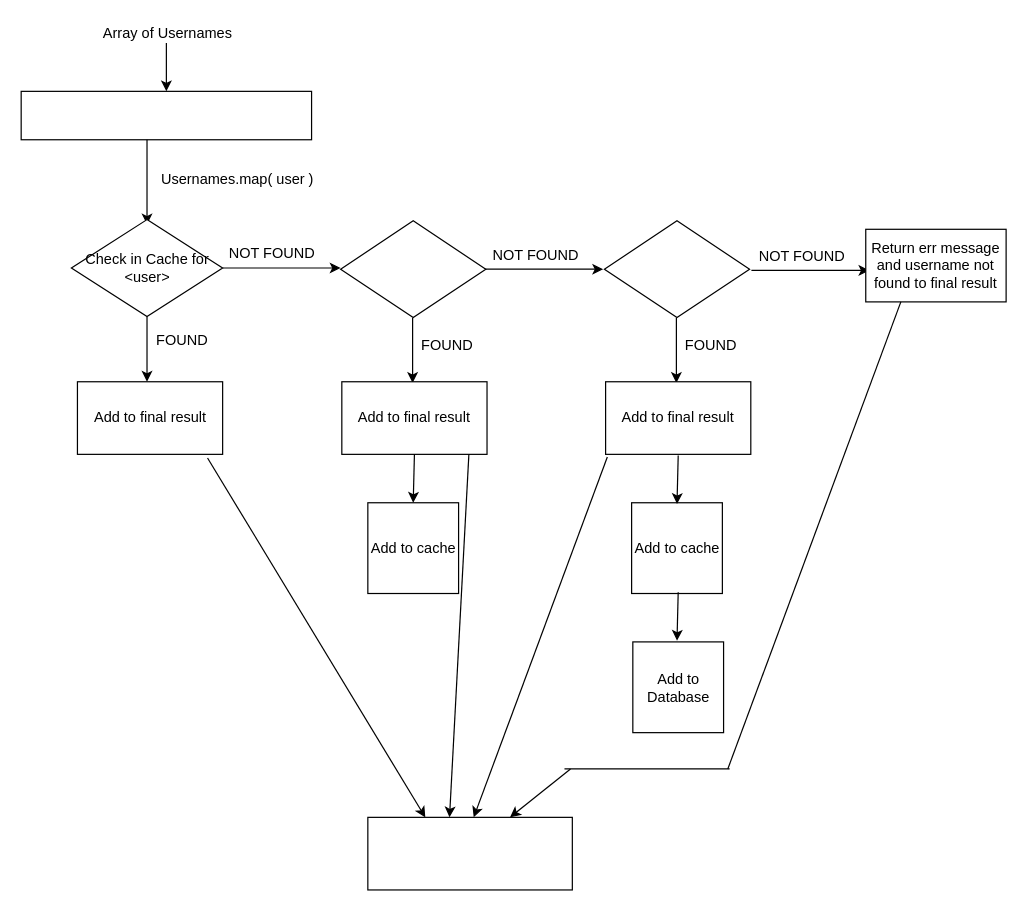
Some shapes in this 1027 by 911 pixel diagram are drawn without their labels. The centre of each missing label's shape, as x and y in pixels:
"Check in API for <user>" belongs at pixel 676 269.
"Check in Database for <user>" belongs at pixel 412 269.
"Generate User Cards" belongs at pixel 469 853.
"Input Box" belongs at pixel 166 115.
